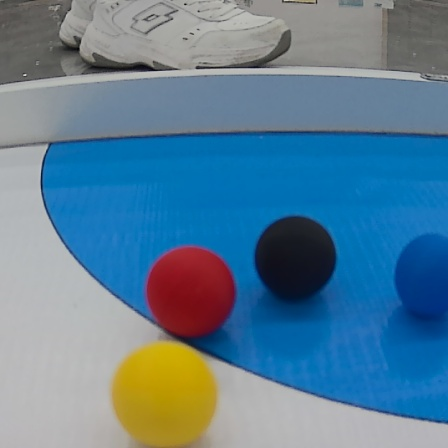black: (252, 212, 342, 305)
blue: (391, 232, 448, 325)
blue_base: (37, 122, 448, 429)
red: (143, 243, 246, 332)
yellow: (112, 341, 224, 448)
